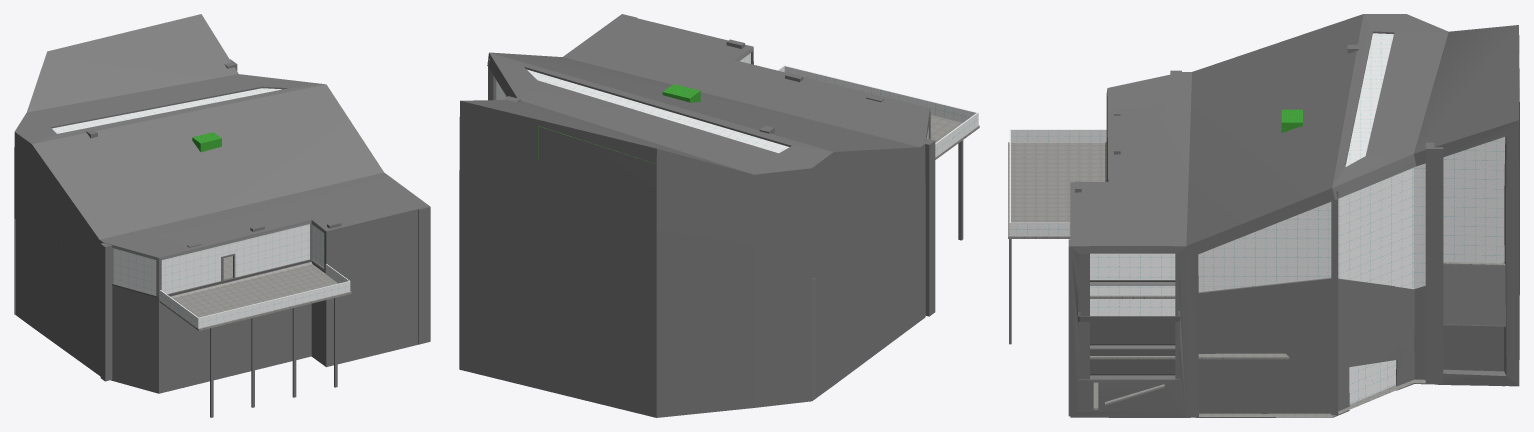
Rendered from level1.FBX.
3 views of the same model, side by side, from view 1: azimuth 30°, elevation 25°; view 2: azimuth 150°, elevation 25°; view 3: azimuth 270°, elevation 25° (orthographic). The views are drawn at different scales.
Visible parts, largest first — view 1: walls, windows, support_beams, floor2_b, central_beam; view 2: walls, windows, support_beams, floor2_b, central_beam, inner_walls; view 3: walls, windows, support_beams, floor2_b, mainwall, Plane008, floor_0, floor1_a.
Boxes of the visible parts, x1=… form: walls: x1=14, y1=14, x2=429, y2=393; windows: x1=52, y1=88, x2=350, y2=328; support_beams: x1=86, y1=59, x2=430, y2=417; floor2_b: x1=159, y1=256, x2=351, y2=330; central_beam: x1=192, y1=132, x2=221, y2=152; walls: x1=459, y1=14, x2=930, y2=417; windows: x1=496, y1=53, x2=978, y2=157; support_beams: x1=488, y1=14, x2=963, y2=316; floor2_b: x1=930, y1=115, x2=979, y2=159; central_beam: x1=662, y1=84, x2=700, y2=102; inner_walls: x1=812, y1=278, x2=815, y2=399; walls: x1=1070, y1=14, x2=1519, y2=417; windows: x1=1009, y1=33, x2=1505, y2=315; support_beams: x1=1009, y1=44, x2=1443, y2=416; floor2_b: x1=1008, y1=142, x2=1175, y2=298; mainwall: x1=1443, y1=264, x2=1505, y2=369; Plane008: x1=1349, y1=360, x2=1396, y2=404; floor_0: x1=1093, y1=379, x2=1425, y2=416; floor1_a: x1=1090, y1=353, x2=1289, y2=359.
Size of the model in its own units: 28.48 by 20.38 by 34.94.
